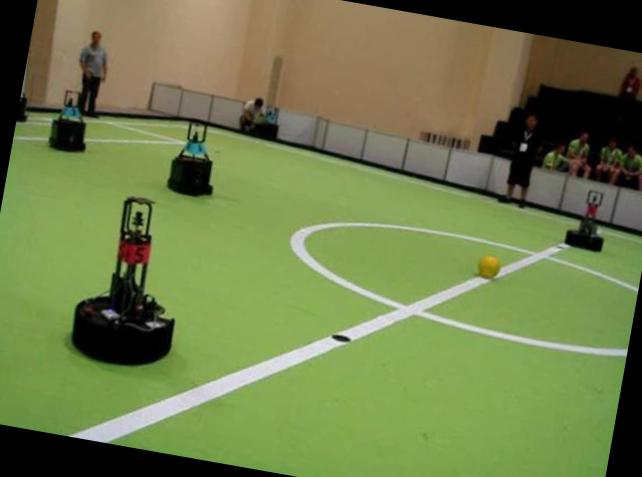ball: (476, 254, 499, 277)
person: (498, 114, 538, 207), (78, 30, 107, 117)
robot: (72, 196, 174, 363), (166, 120, 212, 195), (564, 190, 603, 251), (48, 89, 85, 151)
